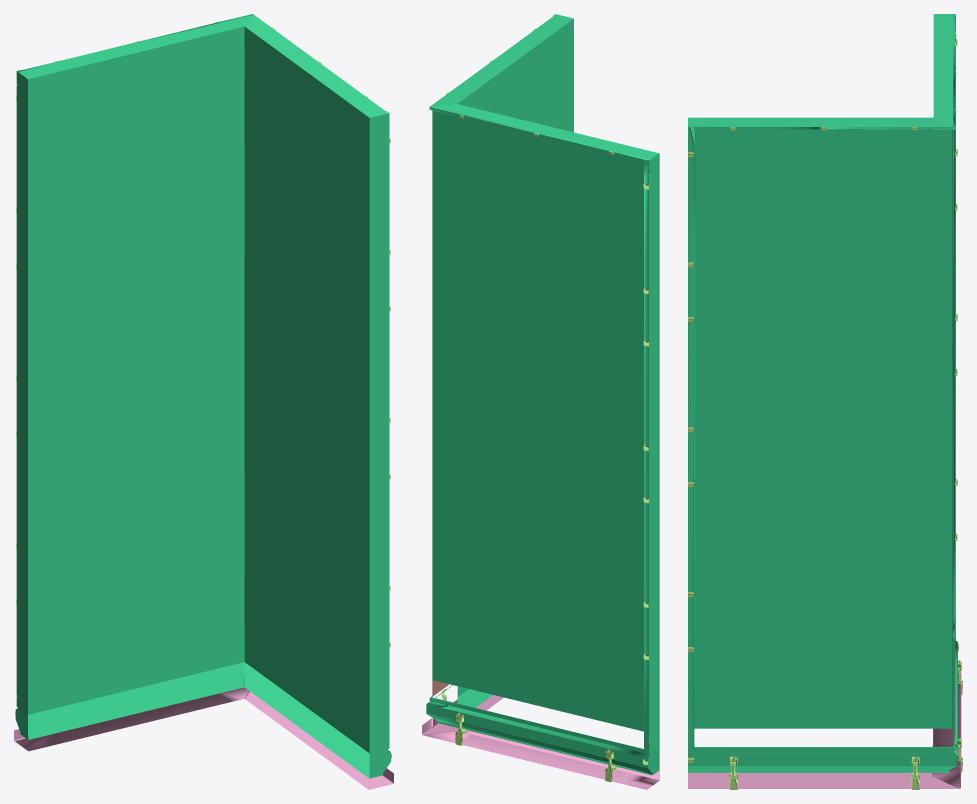
Rendered from roomslg_b_wall_corner_out_06x06x16_a.glb.
3 renders of one model, left to right at view 1: azimuth 30°, elevation 25°; view 2: azimuth 150°, elevation 25°; view 3: azimuth 270°, elevation 25°, orthographic. The views are drawn at different scales.
Size of the model in its own units: 6.04 by 16 by 6.04.
